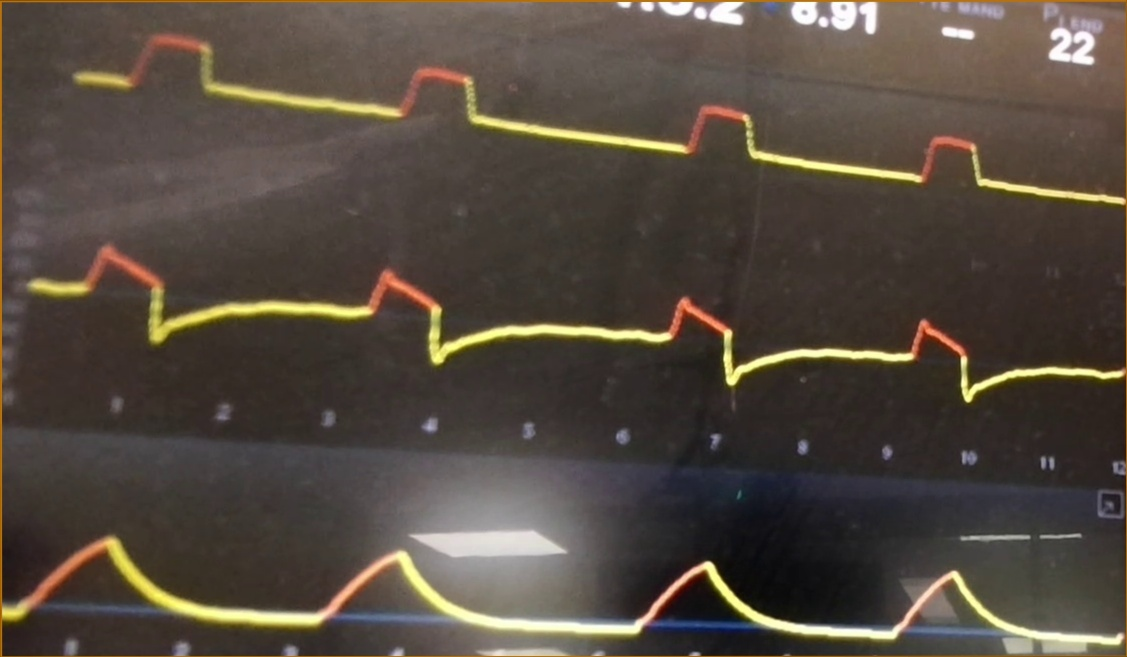Normal Flow: (23, 236, 1125, 404)
Normal Volume: (4, 511, 1127, 647)
